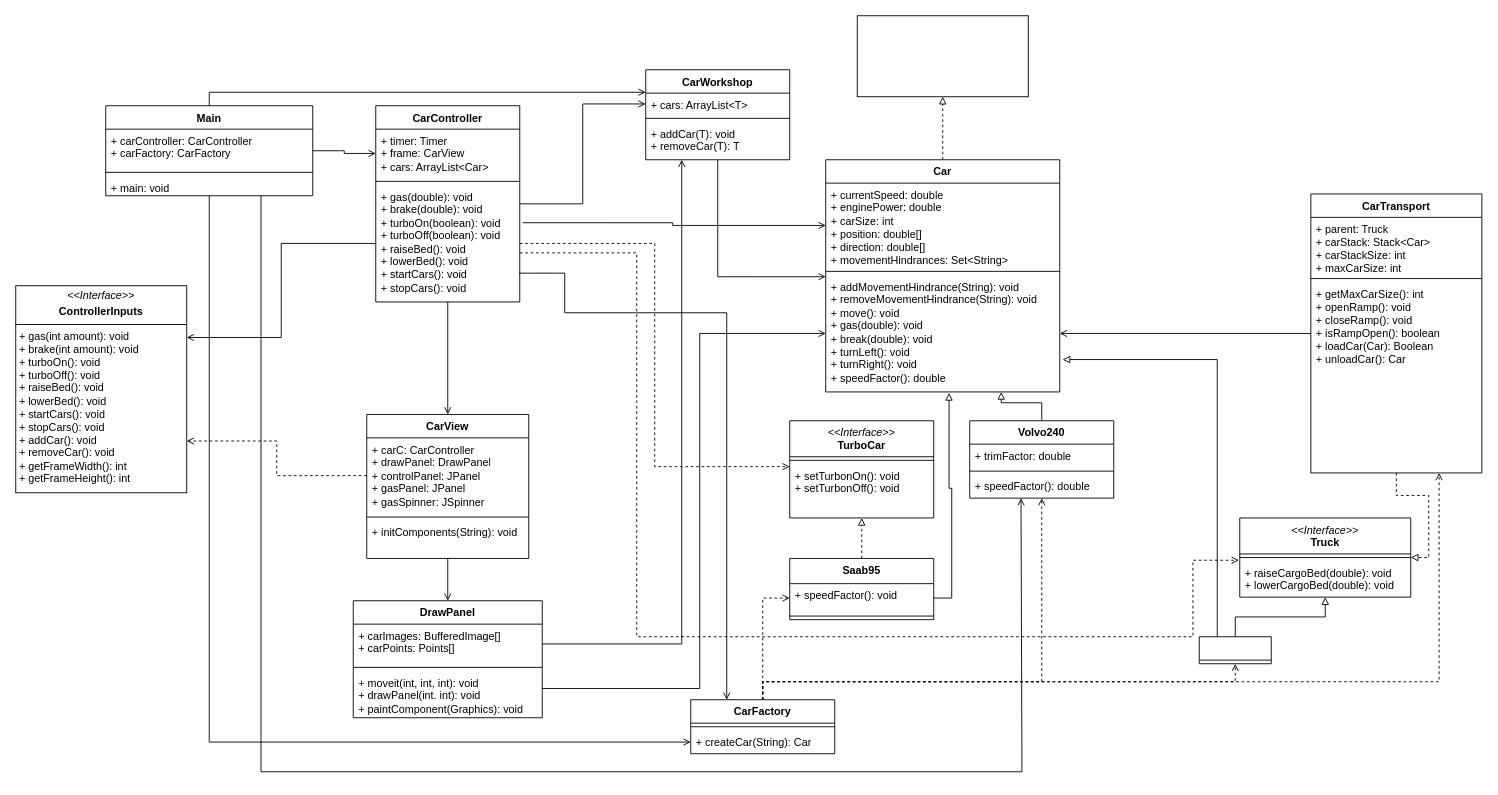
Some shapes in this 1498 by 795 pixel diagram are drawn without their labels. Each missing label, with the centre of its shape:
<<Interface>> Movable + move(): void + turnLeft(): void + turnRight(): void: (942,56)
Scania: (1234,650)
